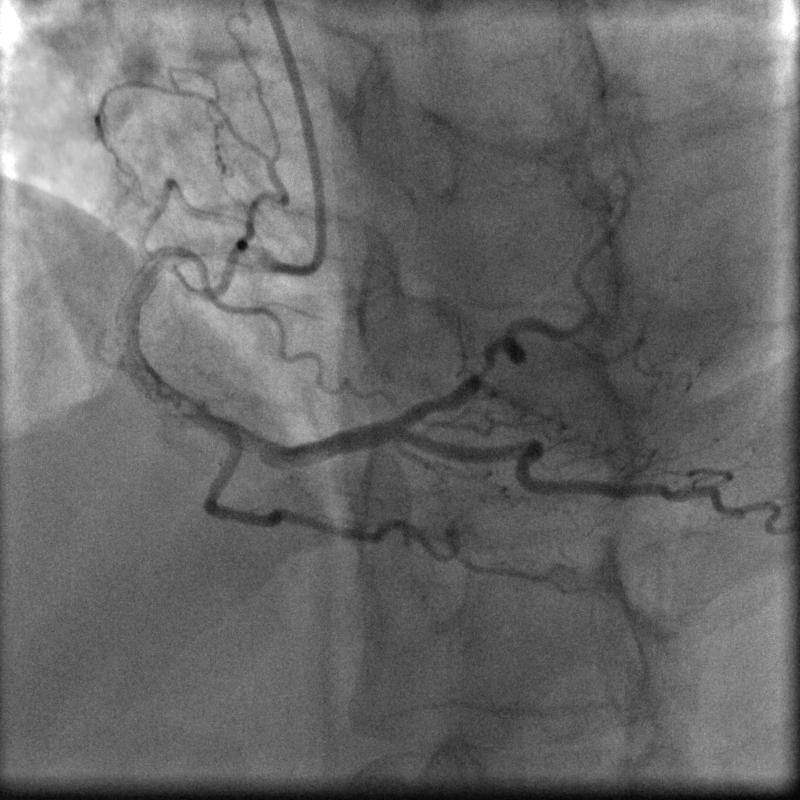Stenosis: (465, 352, 495, 383)
